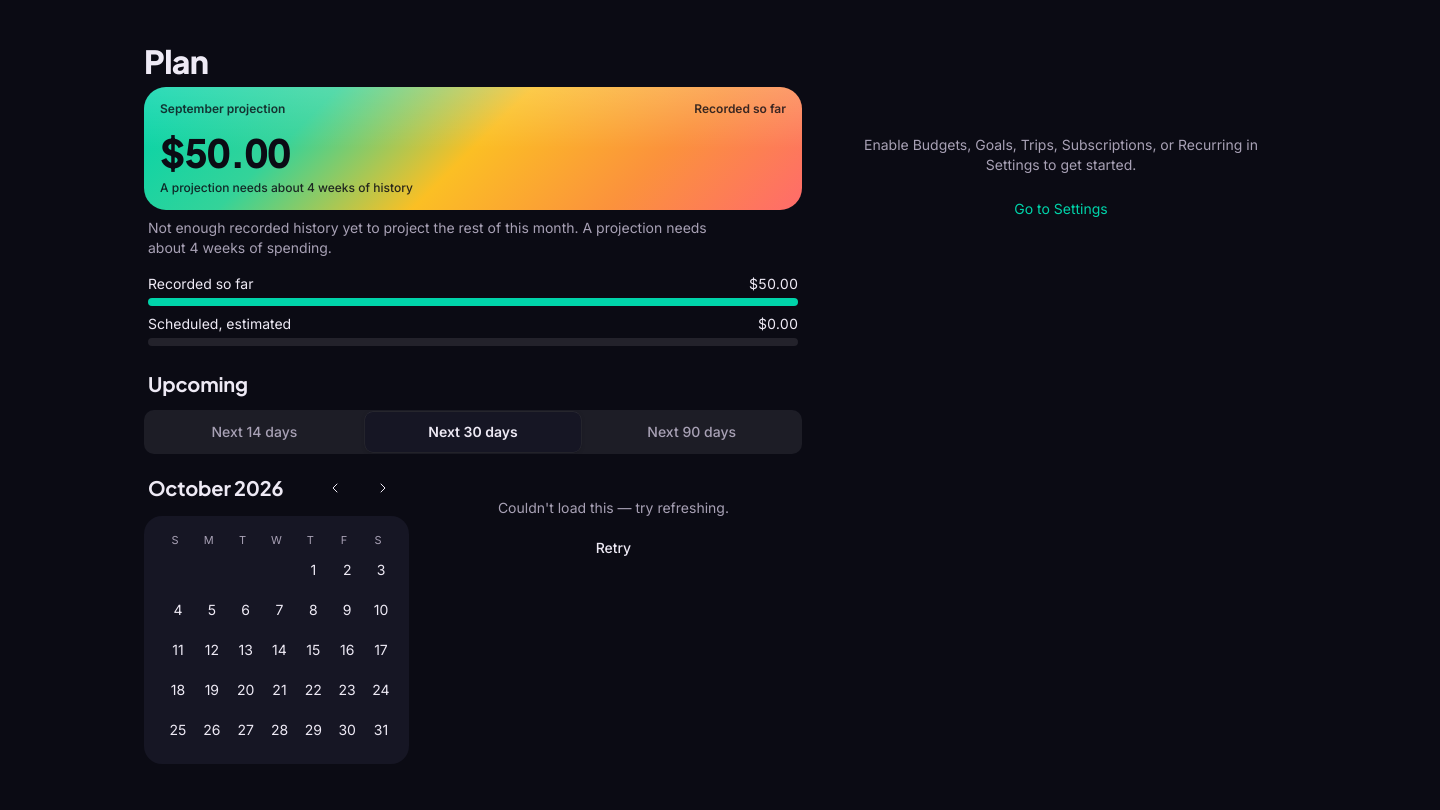
failed data is distinct from an empty timeline and can retry
Expected: the message "Couldn't load this — try refreshing. Retry" is shown, [498,499,729,566]
Expected: the text "No pending charges" is not shown
Step 1. Click the button "Retry" → (613, 548), box [584,530,643,566]
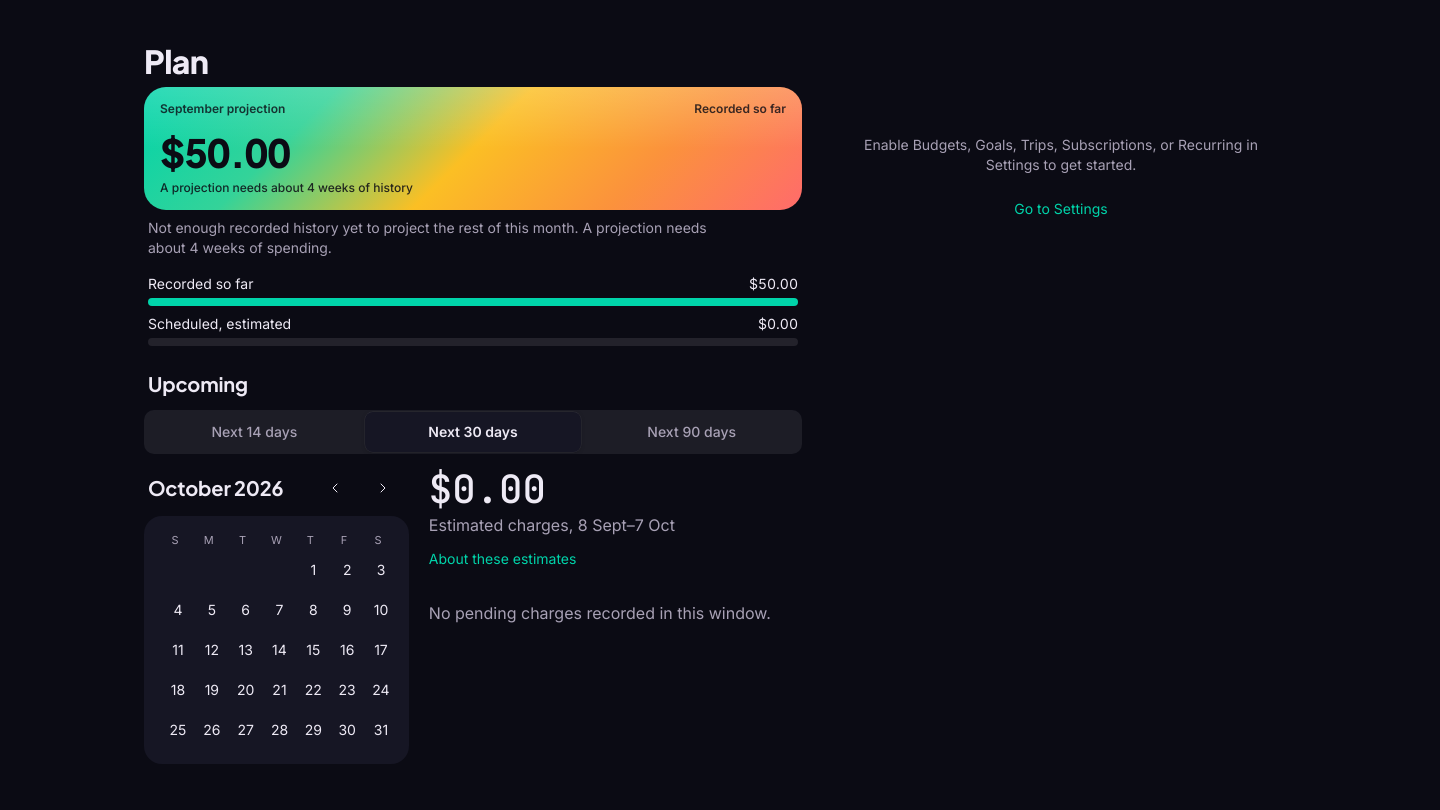
Now the text "No pending charges recorded in this window." is shown, box [429,601,798,625]
